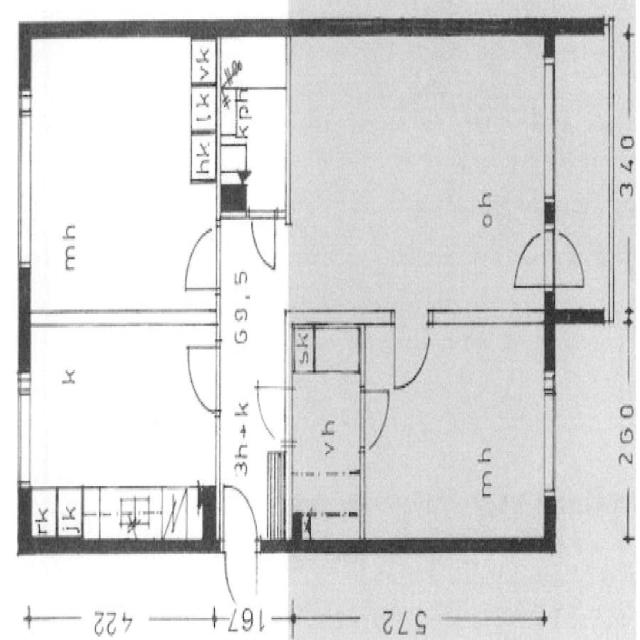door: (366, 321, 553, 551), (287, 318, 363, 544), (219, 476, 263, 633), (177, 215, 224, 302), (180, 336, 227, 420), (252, 380, 295, 450), (246, 205, 282, 276), (357, 384, 392, 454)
window: (10, 76, 40, 279), (536, 44, 561, 214), (428, 301, 546, 335), (12, 358, 36, 502), (540, 357, 560, 504)
zone: (286, 30, 545, 313), (24, 26, 214, 316), (22, 325, 217, 545), (289, 318, 362, 544), (217, 31, 289, 218), (518, 224, 592, 293), (507, 224, 558, 298), (389, 312, 432, 394)
